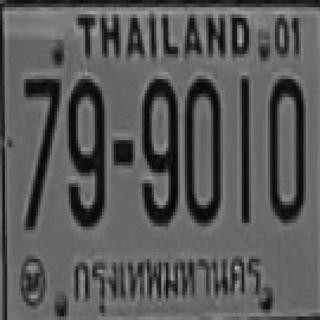N00: (182, 76, 220, 223), (268, 76, 304, 219)
N01: (240, 76, 250, 223)
N07: (21, 76, 59, 226), (21, 76, 59, 205), (21, 75, 59, 176)
N09: (66, 77, 104, 225), (140, 76, 178, 223)
P04: (70, 250, 265, 312)
